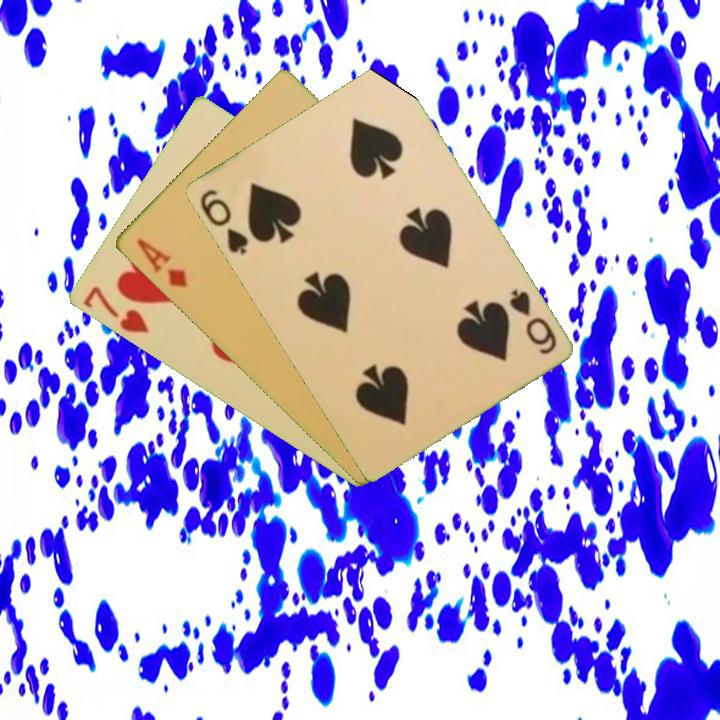6s: (504, 285, 559, 358), (196, 185, 251, 257)
7h: (79, 282, 152, 337)
Ad: (132, 234, 190, 291)
